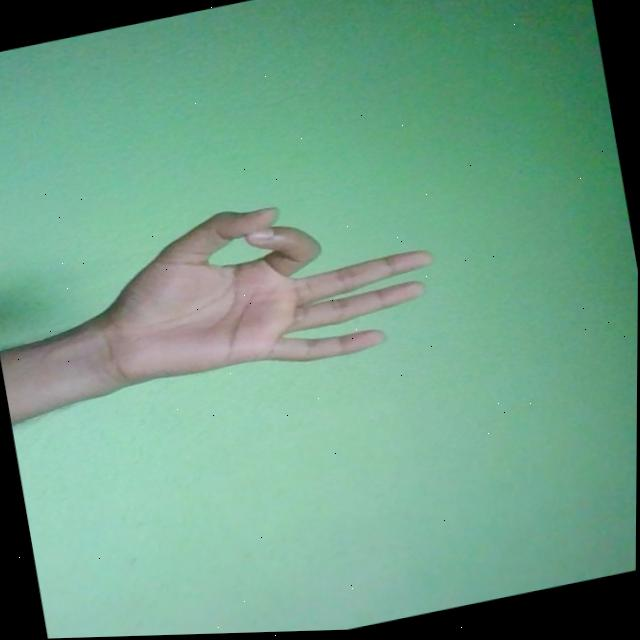Ok: (82, 173, 447, 404)
